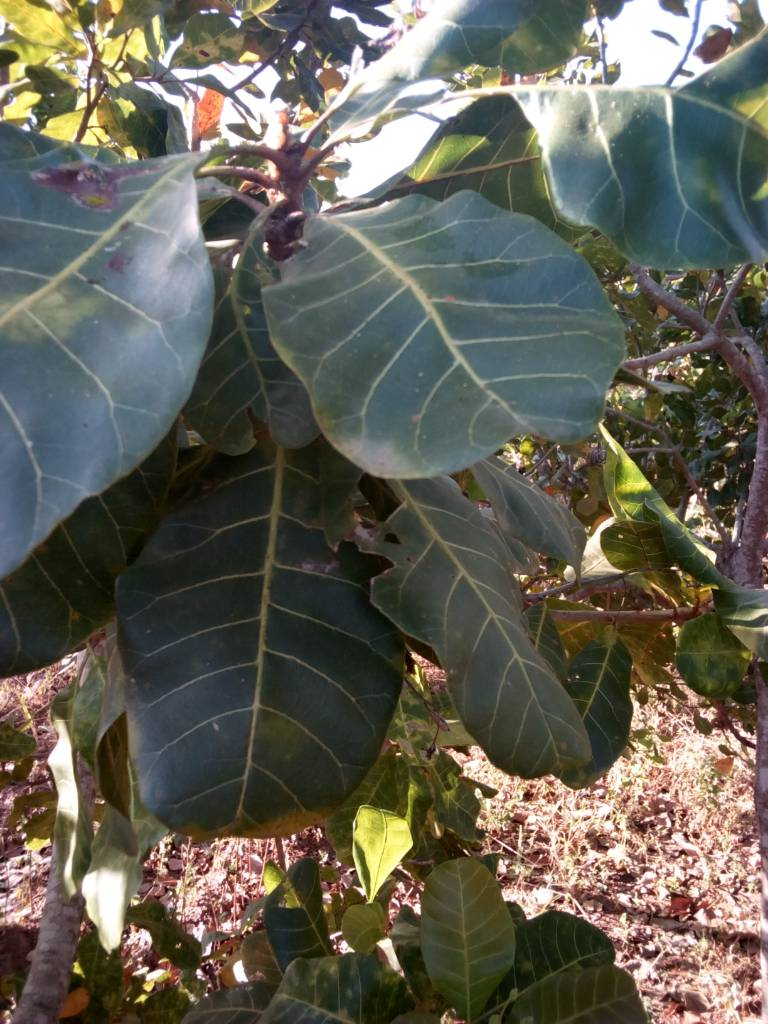Anoplonemis curvipes: (329, 464, 563, 742)
